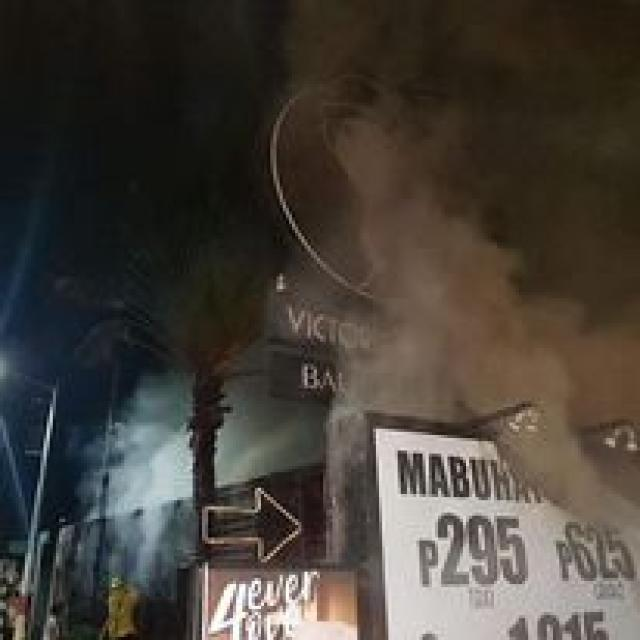Smoke: (302, 6, 640, 425), (105, 380, 185, 521), (240, 389, 308, 497)
